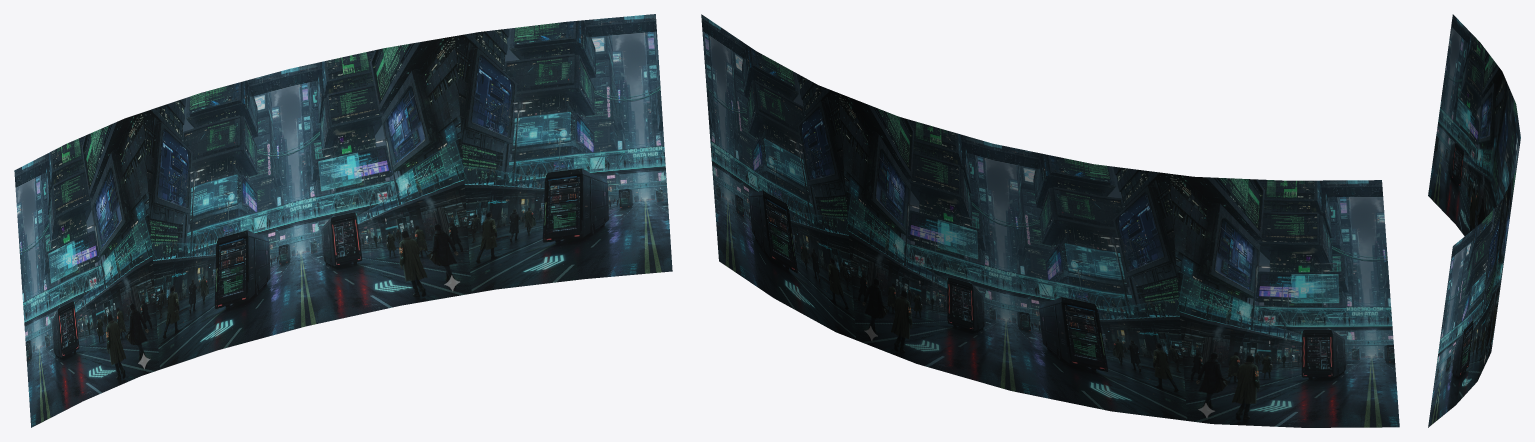
3 views of the same model, side by side, from view 1: azimuth 30°, elevation 25°; view 2: azimuth 150°, elevation 25°; view 3: azimuth 270°, elevation 25° (orthographic). The views are drawn at different scales.
Visible parts, largest first — view 1: Plane_EV-BG; view 2: Plane_EV-BG; view 3: Plane_EV-BG.
Part boxes in pixels (x1,y1,x2,y2): Plane_EV-BG: [14, 14, 672, 427]; Plane_EV-BG: [701, 14, 1399, 427]; Plane_EV-BG: [1428, 14, 1520, 427].
Size of the model in its own units: 9996 by 3805 by 1691.
